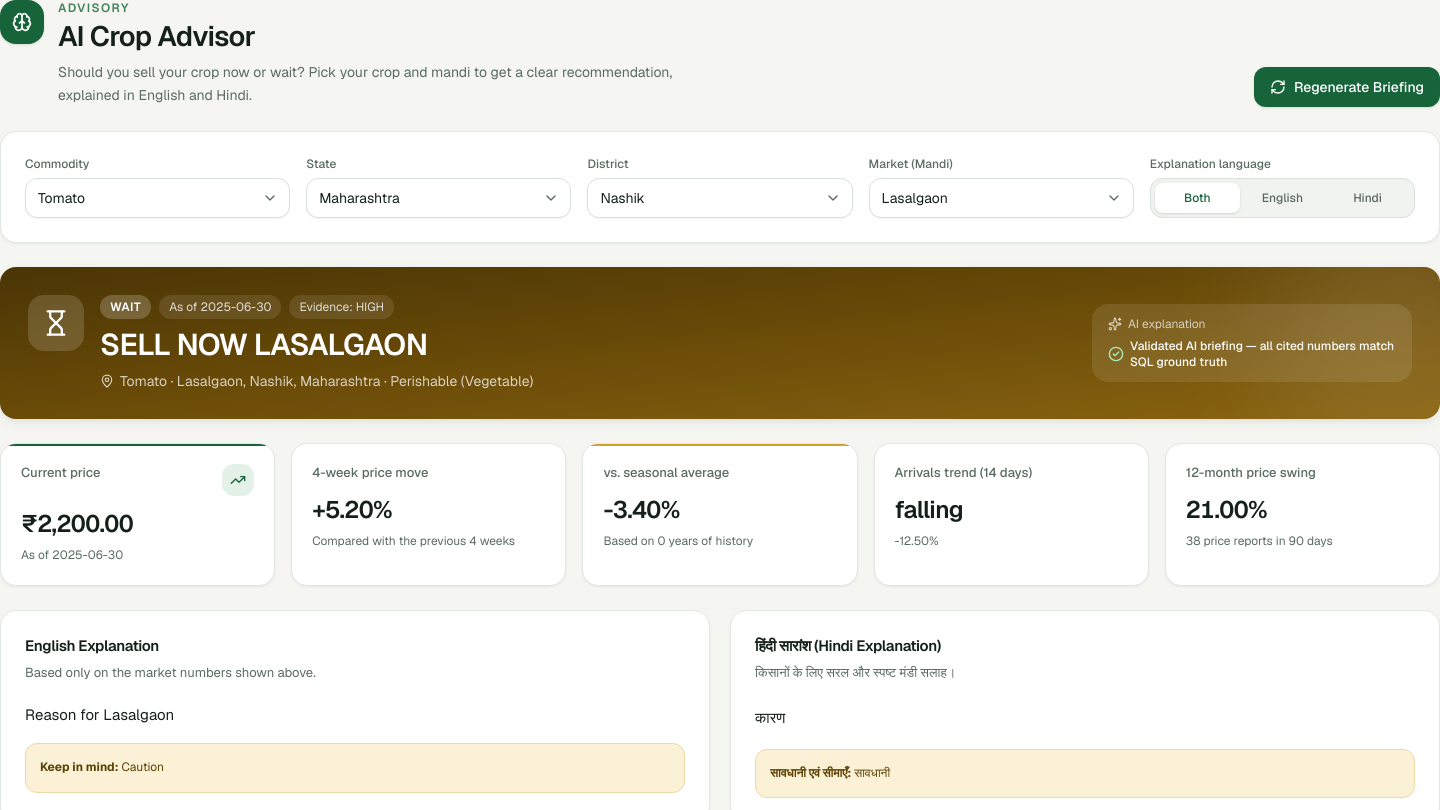
Test: AI Advisor market switch (stale verdict) › shows only the error when the new market's request fails, and restores the old market's verdict when re-selected
Expected: the heading "SELL NOW LASALGAON" is shown, [100,325,428,364]
Select "Pimpalgaon" in the dropdown labelled "Market (Mandi)". click: coordinates (1001, 198)
box: [869,178,1134,218]
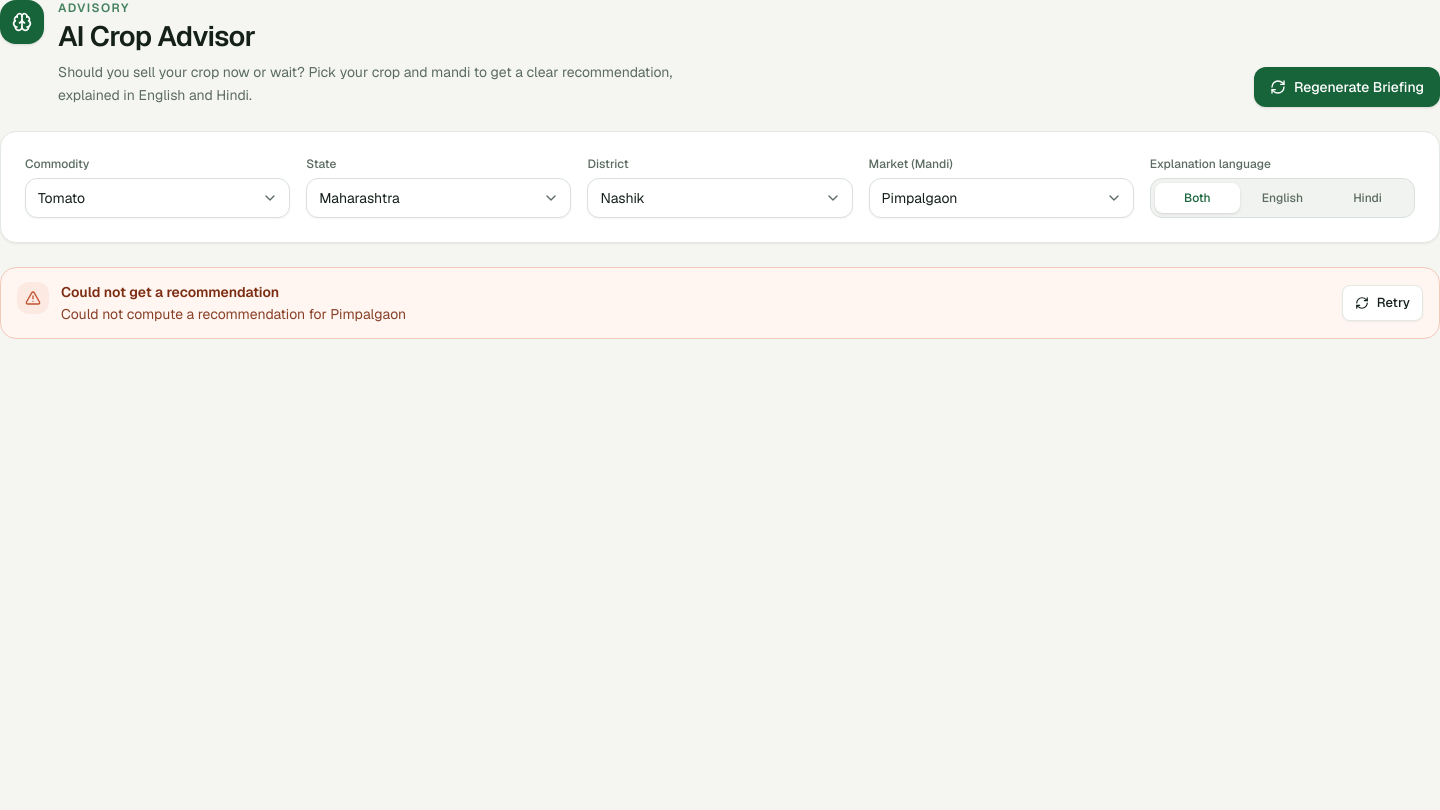
Result: the text "Could not compute a recommendation for Pimpalgaon" is shown at [61,304,406,324]
Result: the heading "SELL NOW LASALGAON" is gone
Result: the text "Reason for Lasalgaon" is gone
# Going back to the market that did succeed shows its own verdict again (from the client cache, no new call).
Select "Lasalgaon" in the dropdown labelled "Market (Mandi)". click: coordinates (1001, 198)
box: [869,178,1134,218]
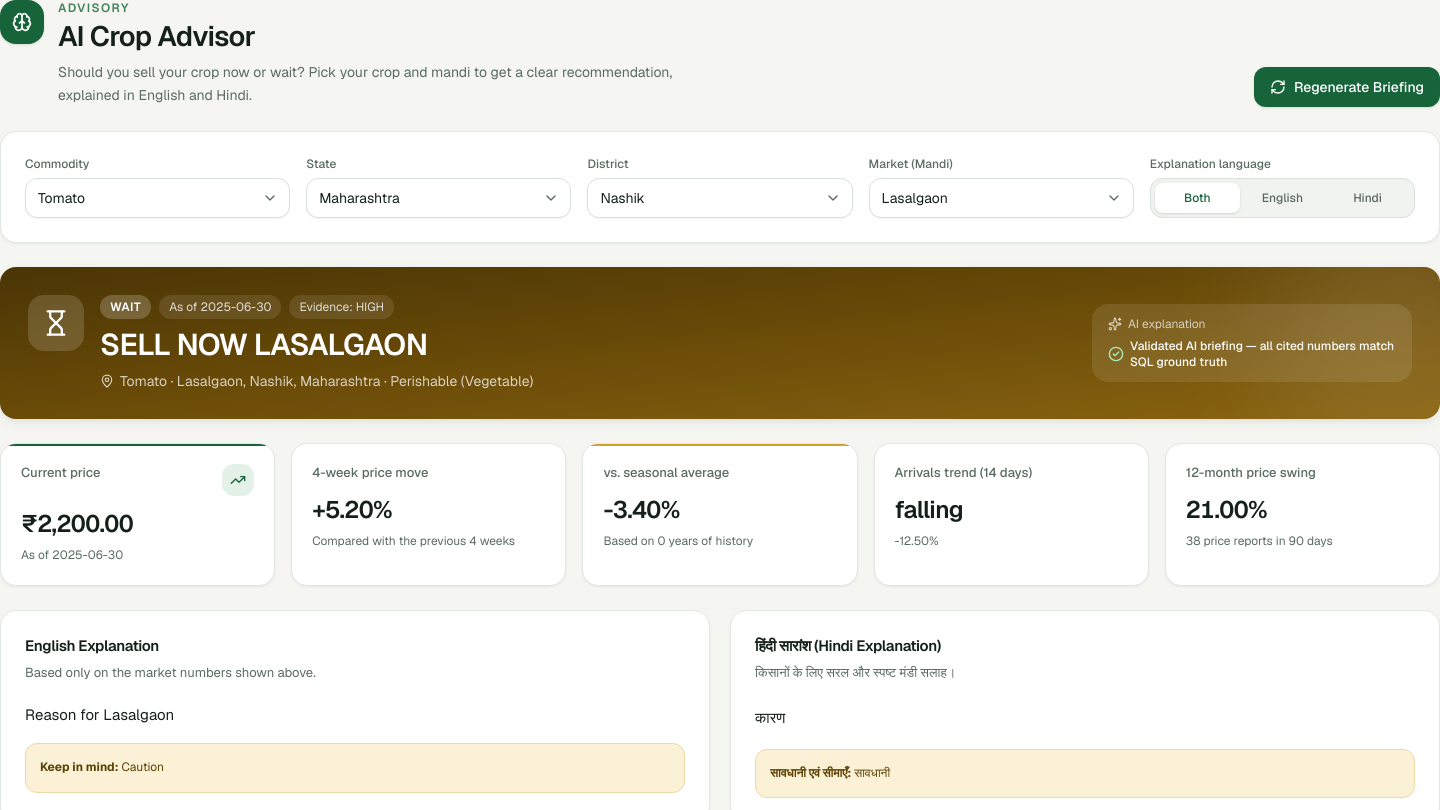
Result: the heading "SELL NOW LASALGAON" is shown at [100,325,428,364]
Result: the text "Could not compute a recommendation for Pimpalgaon" is gone
